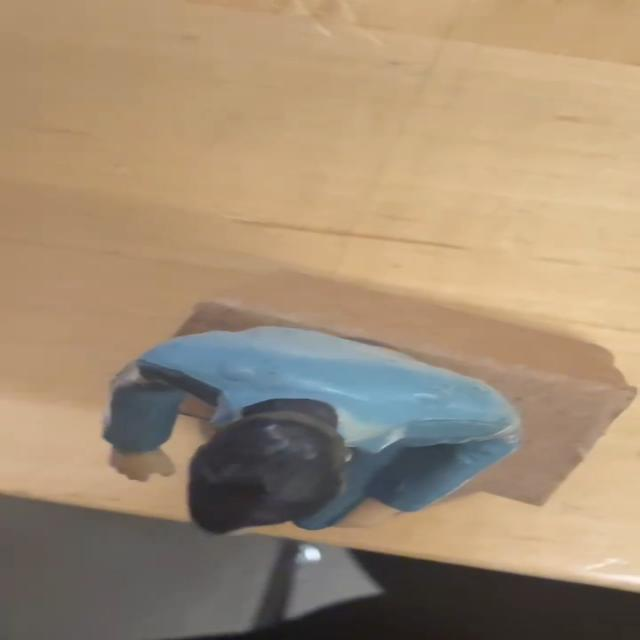Authorized: (0, 283, 640, 565)
